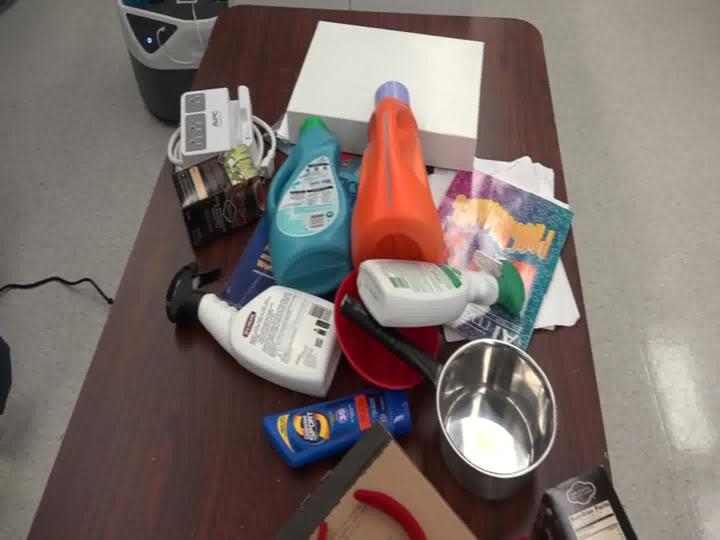downy: (257, 103, 357, 300)
